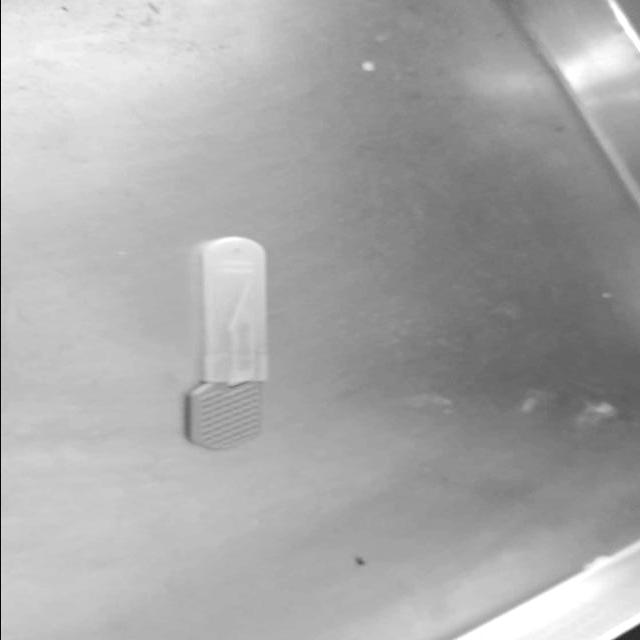Infectious: (186, 380, 264, 450)
Sharps: (184, 234, 270, 450)
